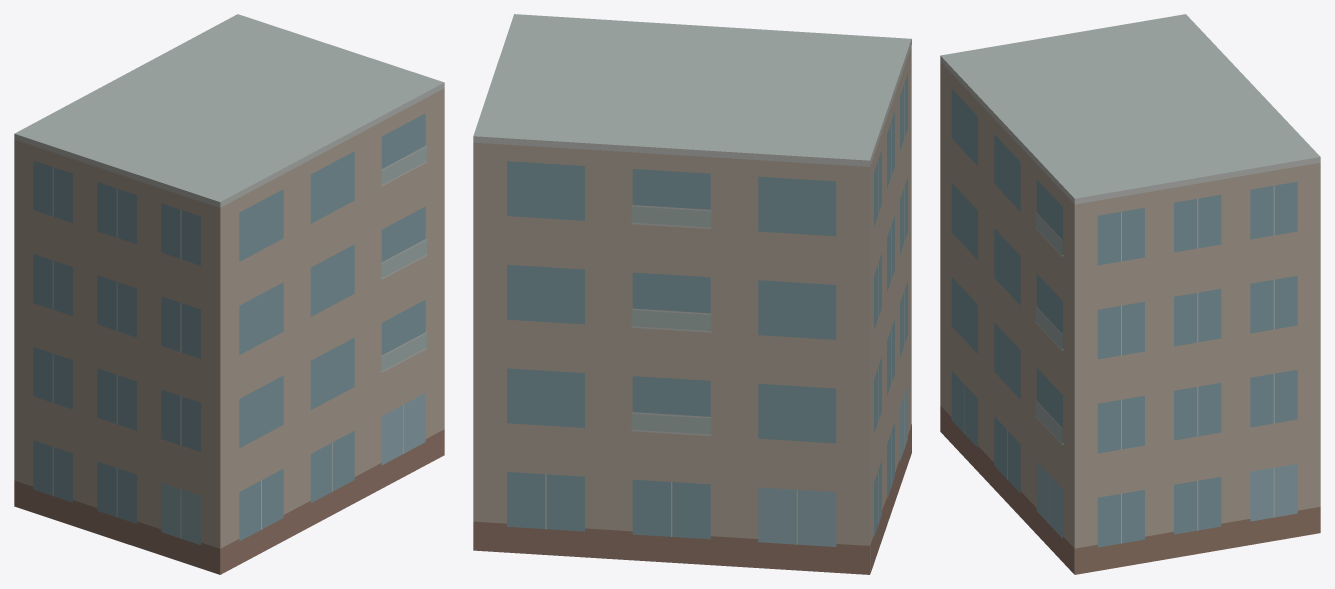
The model's file is survey-upis-32944725.glb.
3 views of the same model, side by side, from view 1: azimuth 30°, elevation 25°; view 2: azimuth 150°, elevation 25°; view 3: azimuth 270°, elevation 25° (orthographic). The views are drawn at different scales.
Visible parts, largest first — view 1: survey-upis-32944725.tmp; view 2: survey-upis-32944725.tmp; view 3: survey-upis-32944725.tmp.
Boxes of the visible parts, x1,y1,x2,y2 form: survey-upis-32944725.tmp: (14,14,444,574); survey-upis-32944725.tmp: (473,14,911,574); survey-upis-32944725.tmp: (940,14,1320,574).
Size of the model in its own units: 16.82 by 15.95 by 14.63.
